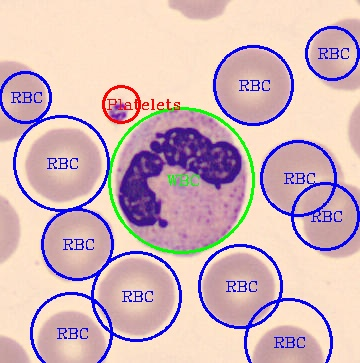Platelets: (105, 94, 133, 125)
RBC: (259, 136, 345, 219), (96, 256, 177, 338), (210, 45, 293, 125), (23, 124, 104, 204), (199, 249, 278, 327), (37, 205, 115, 283), (300, 178, 359, 260), (0, 57, 49, 144), (34, 308, 108, 361), (307, 17, 358, 92), (250, 322, 327, 361)
WBC: (114, 107, 249, 257)
